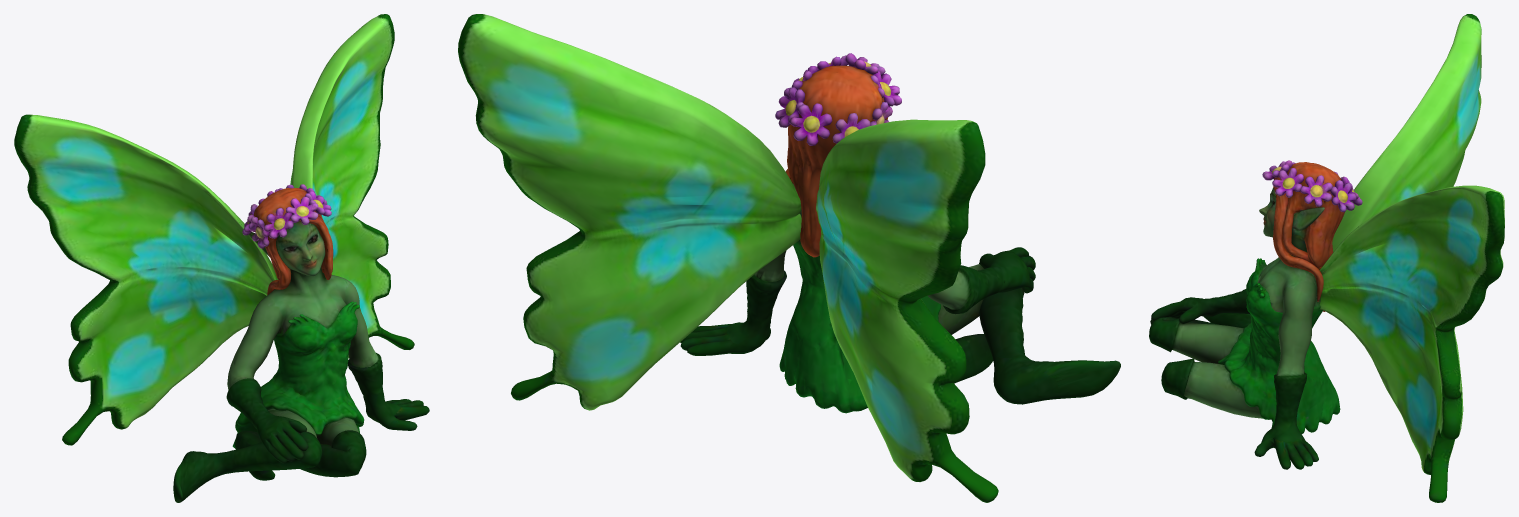
The model's file is MZ4250 - Pixie.glb.
The picture shows the model from 3 angles, left to right: view 1: azimuth 30°, elevation 25°; view 2: azimuth 150°, elevation 25°; view 3: azimuth 270°, elevation 25°; orthographic projection. The views are drawn at different scales.
Parts seen in each view (by area): view 1: Pixie Updated.001; view 2: Pixie Updated.001; view 3: Pixie Updated.001.
Boxes of the visible parts, left/top/right/bottom form: Pixie Updated.001: left=14, top=14, right=429, bottom=502; Pixie Updated.001: left=458, top=14, right=1120, bottom=502; Pixie Updated.001: left=1149, top=14, right=1504, bottom=502.
Size of the model in its own units: 120 by 92.07 by 94.34.
Materials: 1 (1 with a texture image).
